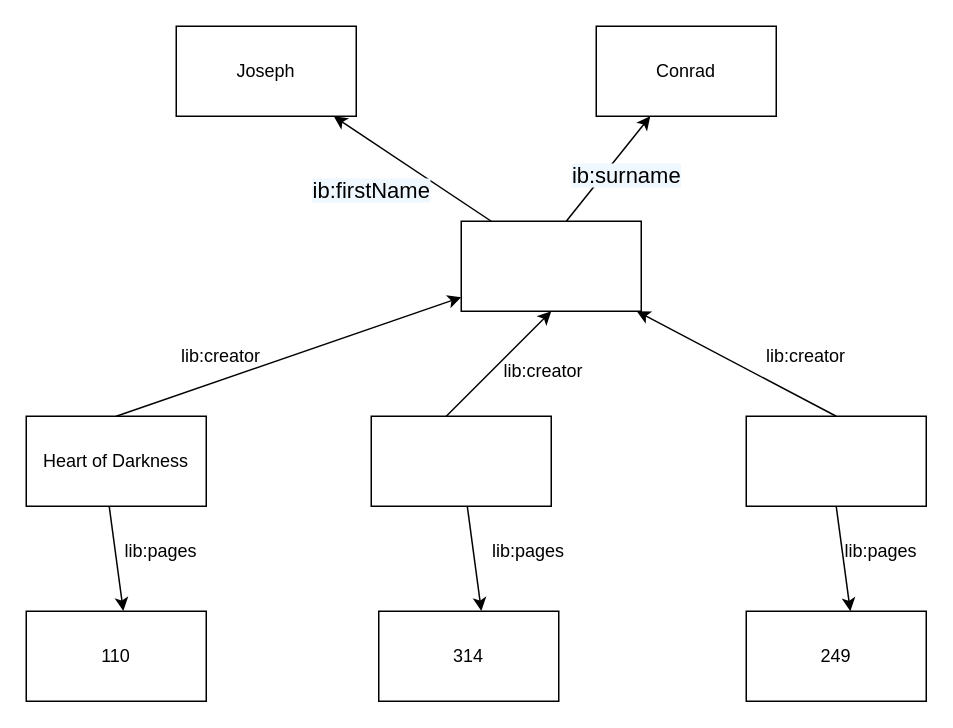
This 953x728 diagram has some shape labels left out. Each missing label, with the box of its shape:
JC: (460, 220, 641, 311)
Lord Jim: (370, 415, 551, 506)
The Secret Agent: (745, 415, 926, 506)
